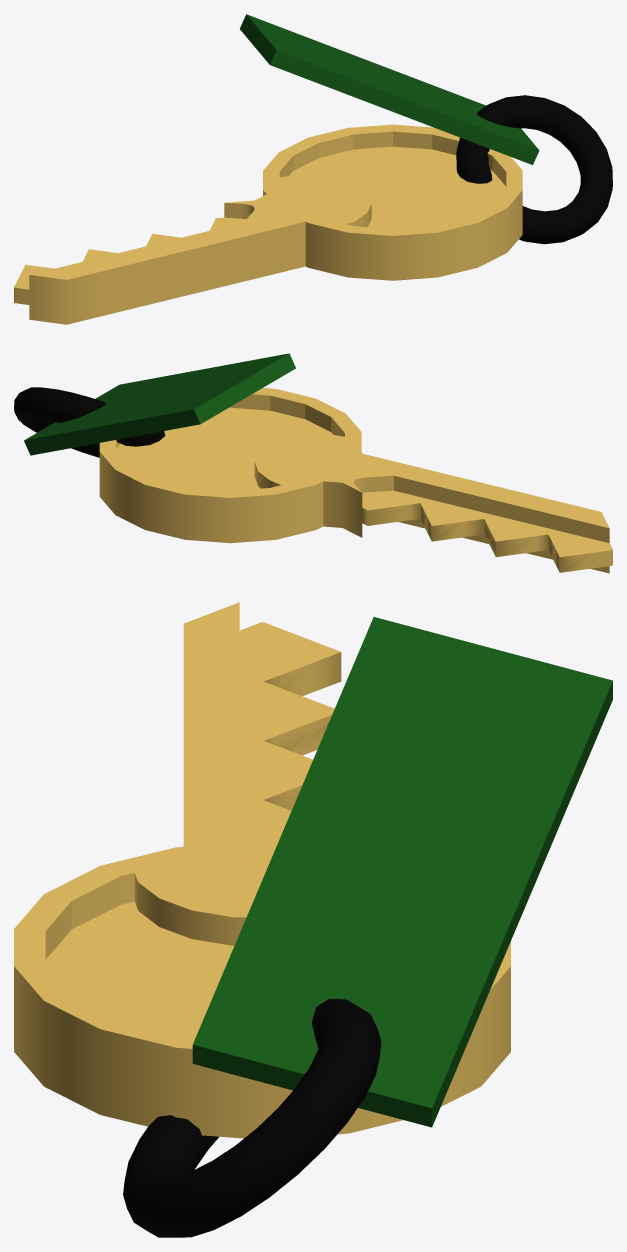
Rendered from ROOM KEYS - GREEN.fbx.
3 renders of one model, top to bottom at view 1: azimuth 30°, elevation 25°; view 2: azimuth 150°, elevation 25°; view 3: azimuth 270°, elevation 25°, orthographic. The views are drawn at different scales.
Parts seen in each view (by area): view 1: Cylinder001, Box001, Box002, Torus001, Cylinder002; view 2: Cylinder001, Box001, Box002, Cylinder002, Torus001; view 3: Box002, Cylinder001, Box001, Torus001, Cylinder002.
Part boxes in pixels (box(x1,y1,x2,y2)): Cylinder001: box(263, 124, 522, 280); Box001: box(14, 190, 317, 324); Box002: box(240, 14, 539, 164); Torus001: box(456, 95, 612, 244); Cylinder002: box(270, 175, 371, 226); Cylinder001: box(99, 388, 361, 543); Box001: box(307, 449, 612, 573); Box002: box(24, 353, 295, 455); Cylinder002: box(254, 434, 355, 488); Torus001: box(14, 387, 165, 457); Box002: box(192, 617, 612, 1127); Cylinder001: box(14, 841, 510, 1138); Box001: box(183, 602, 341, 860); Torus001: box(123, 999, 381, 1237); Cylinder002: box(134, 848, 274, 945).
Size of the model in its own units: 10.31 by 3.41 by 4.75.
